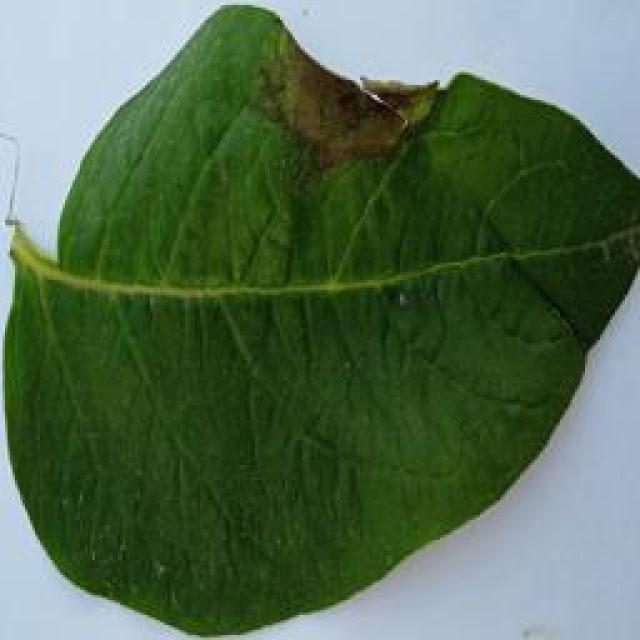Potato_Late_Blight: (7, 7, 625, 635)
